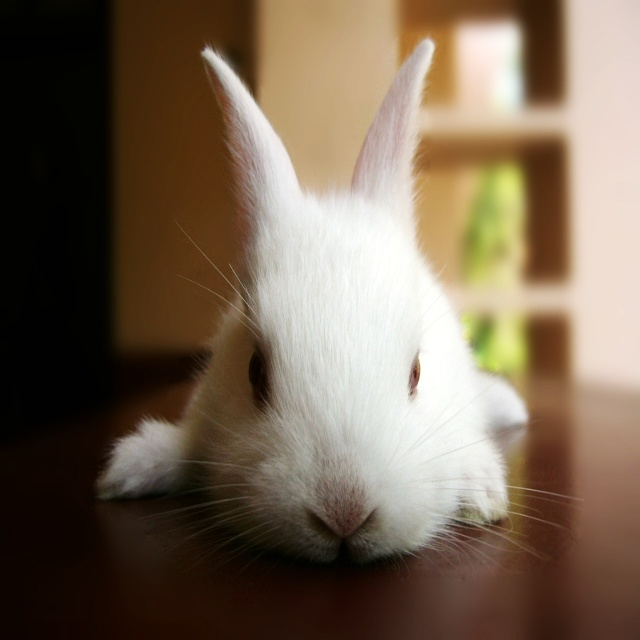Rabbit: (91, 32, 584, 578)
